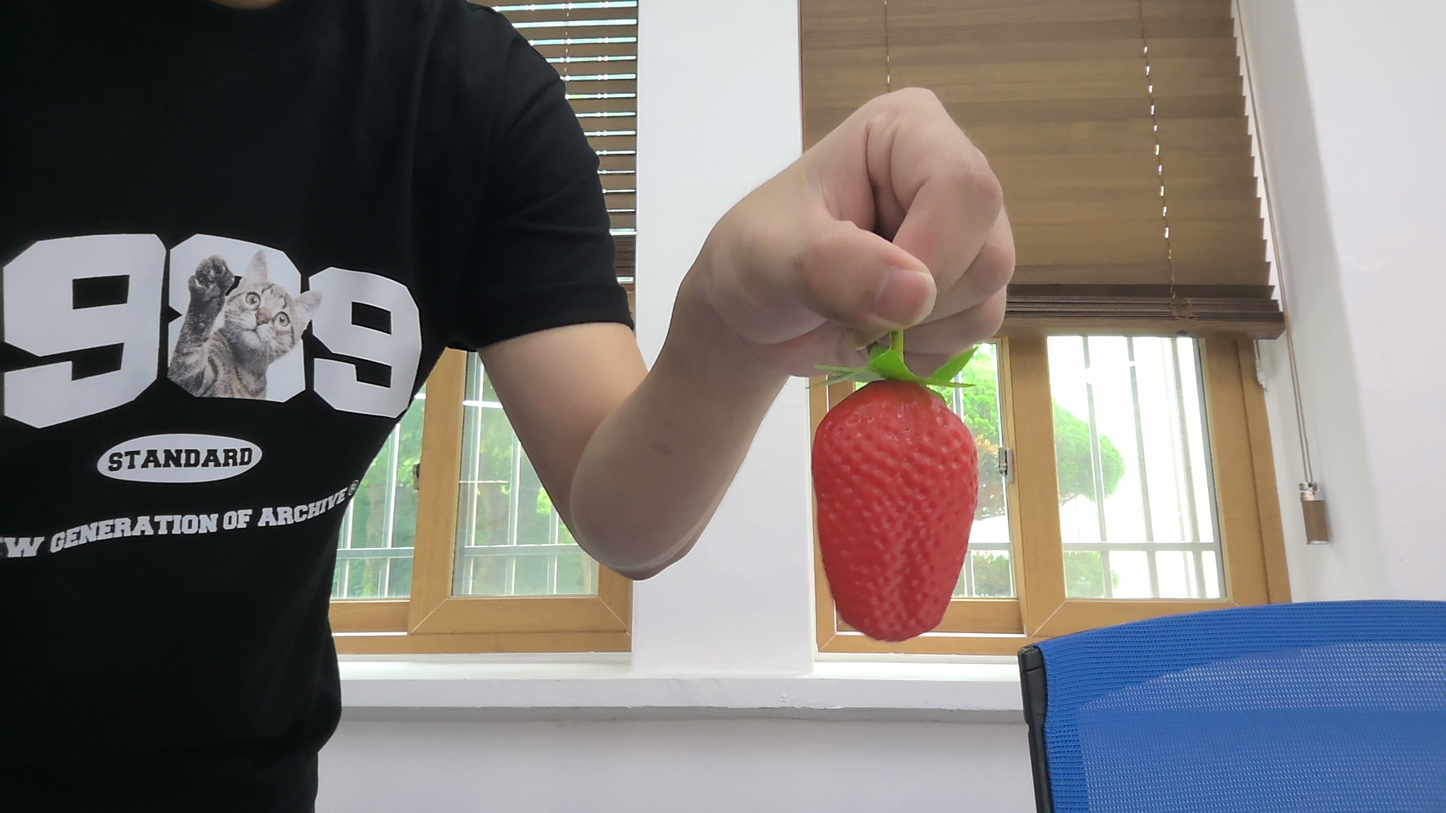strawberry: (809, 372, 977, 647)
